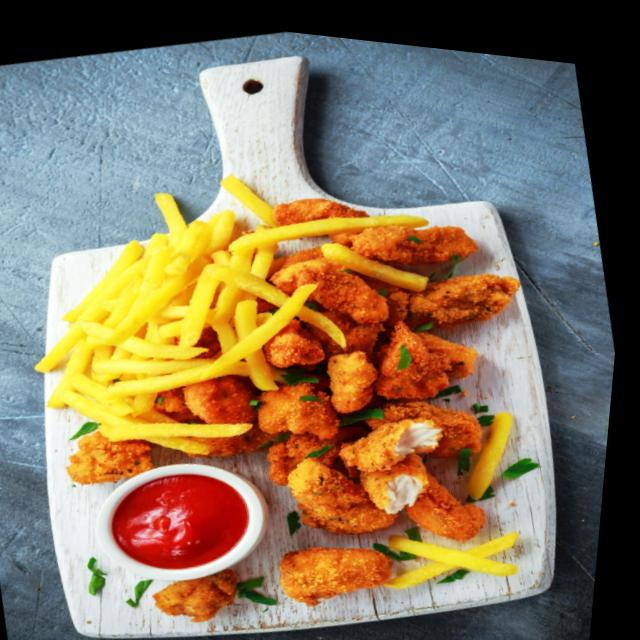french fries: (0, 136, 363, 498)
ketchup: (82, 443, 278, 606)
